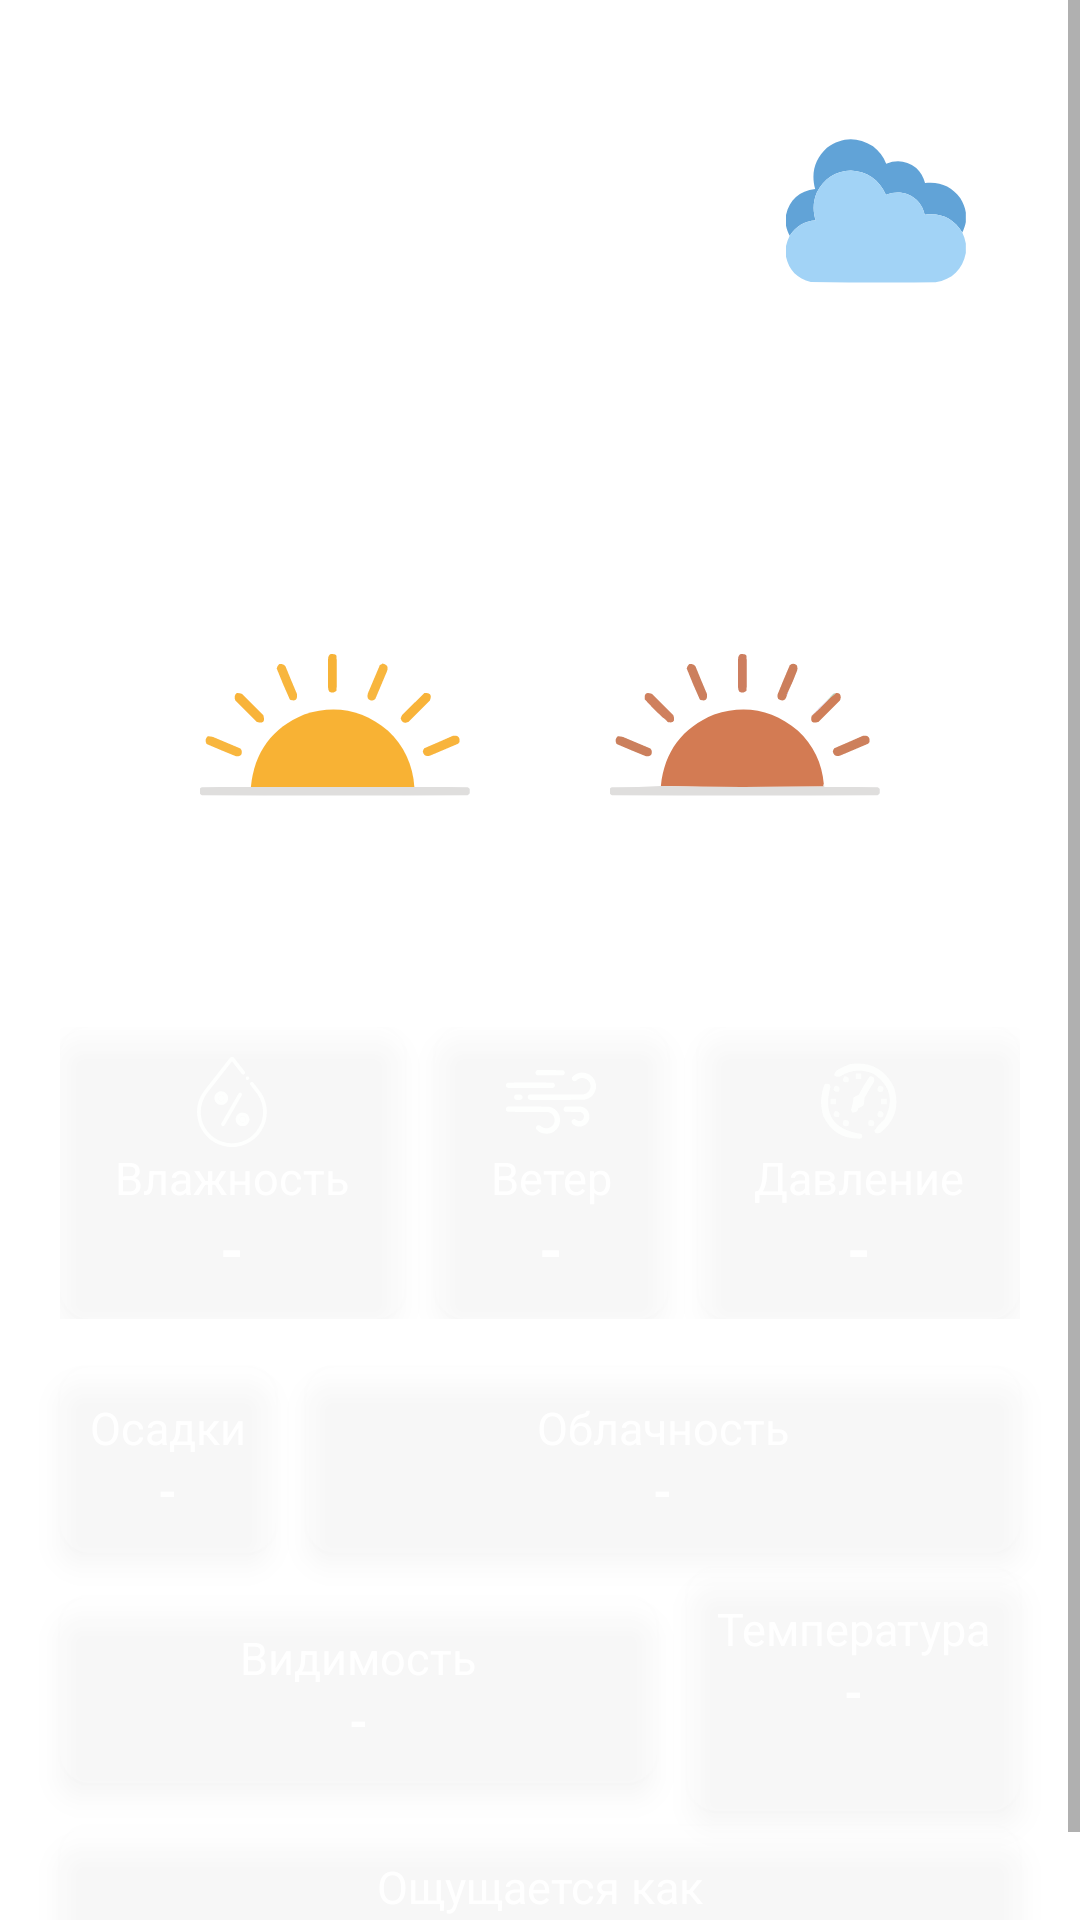

Named icons in this screenshot (1080 x 1920) and their centers, point (x, y):
sunrise: point (335, 724)
sunset: point (745, 724)
